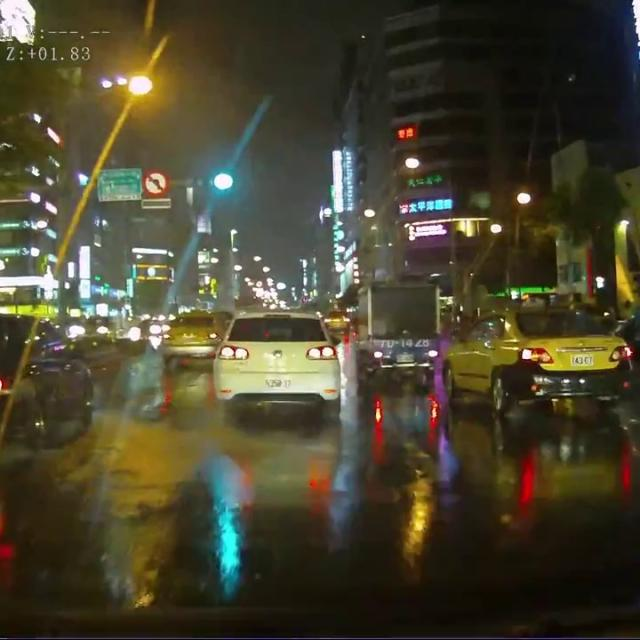Car: (441, 304, 639, 410), (211, 303, 340, 403), (0, 309, 93, 444), (160, 307, 228, 368)
